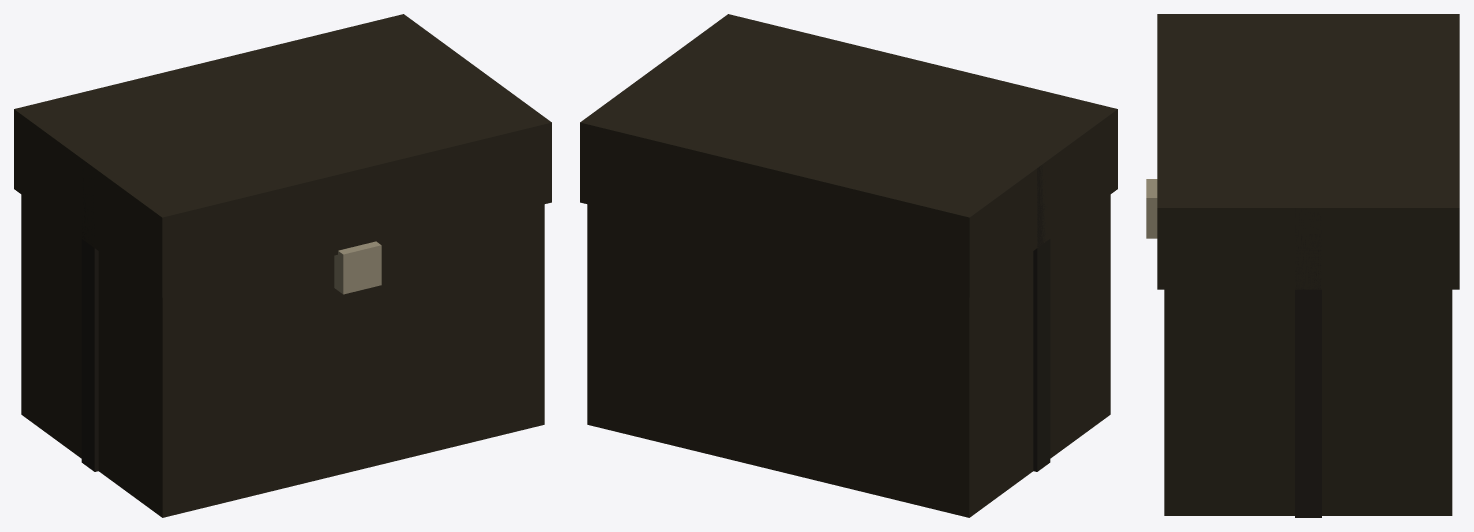
File: HeavyChest.fbx
The picture shows the model from 3 angles, left to right: view 1: azimuth 30°, elevation 25°; view 2: azimuth 150°, elevation 25°; view 3: azimuth 270°, elevation 25°; orthographic projection. The views are drawn at different scales.
Parts seen in each view (by area): view 1: HeavyChest; view 2: HeavyChest; view 3: HeavyChest.
Part boxes in pixels (x1,y1,x2,y2): HeavyChest: (14, 14, 551, 517); HeavyChest: (580, 14, 1117, 517); HeavyChest: (1146, 14, 1459, 517).
Size of the model in its own units: 51 by 38 by 34.8.
3 materials, 3 textured.
